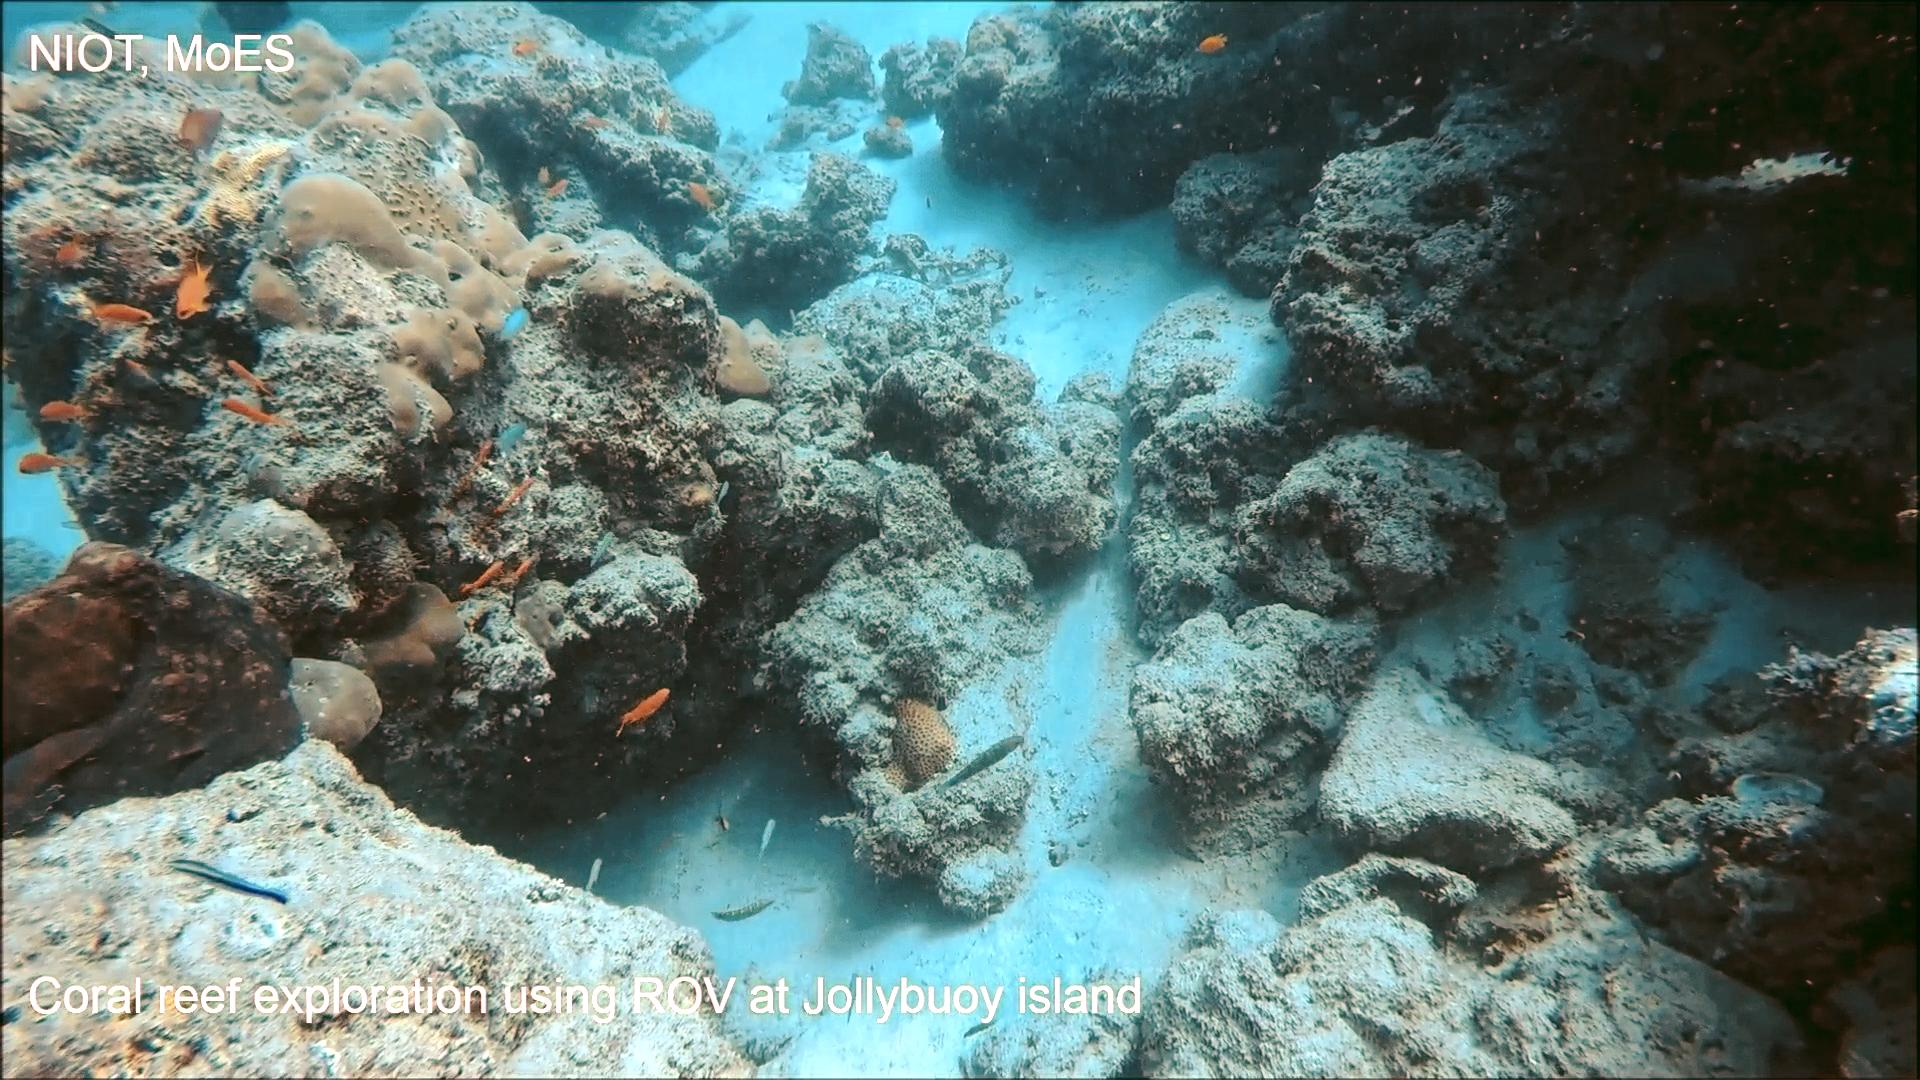Porites-Porites pukoensis: (220, 13, 592, 452)
